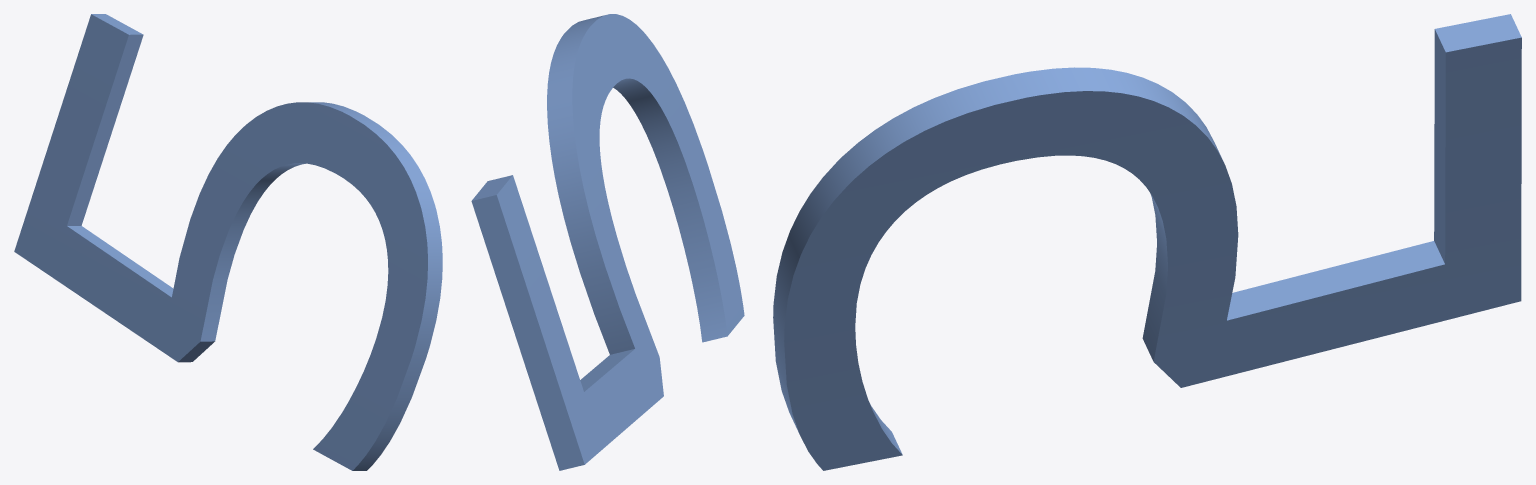
File: New_Number_5.gltf
3 views of the same model, side by side, from view 1: azimuth 30°, elevation 25°; view 2: azimuth 150°, elevation 25°; view 3: azimuth 270°, elevation 25° (orthographic). The views are drawn at different scales.
Parts seen in each view (by area): view 1: Part 716; view 2: Part 716; view 3: Part 716.
Part boxes in pixels (<box>): Part 716: <box>14,14,442,470</box>; Part 716: <box>471,14,744,470</box>; Part 716: <box>773,14,1521,470</box>.
Bounding box in the file's own units: 0.00242 × 0.00347 × 0.00546.
